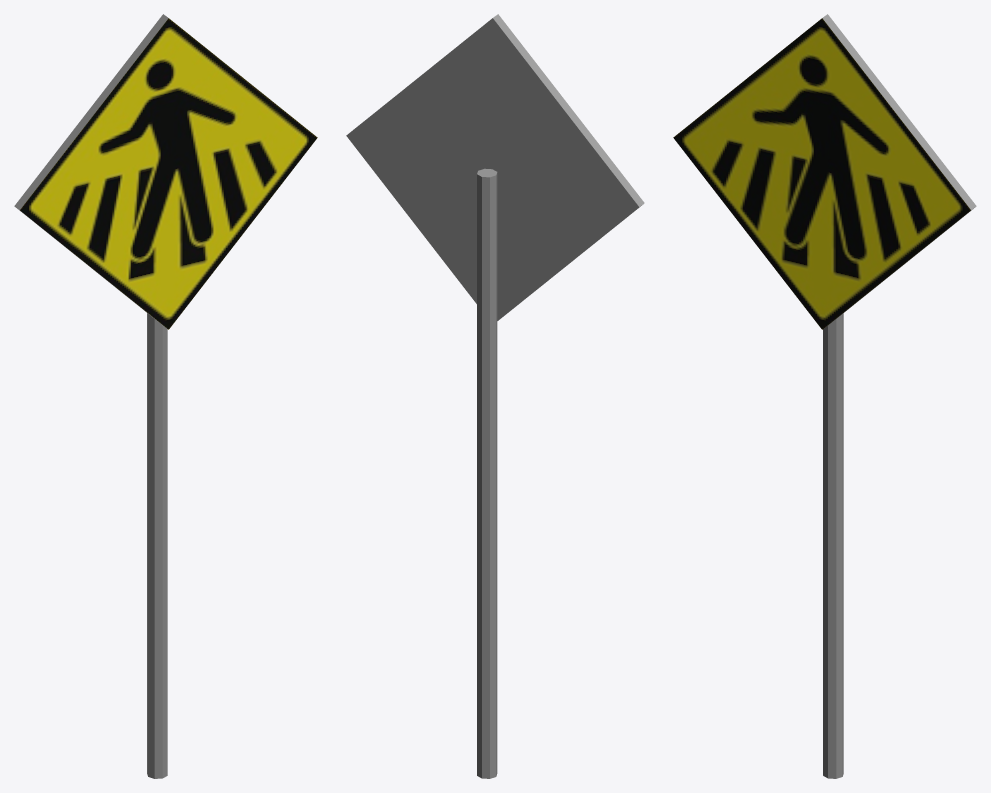
The model's file is PlacaFaixaDePedestres.fbx.
3 renders of one model, left to right at view 1: azimuth 30°, elevation 25°; view 2: azimuth 150°, elevation 25°; view 3: azimuth 330°, elevation 25°, orthographic.
Visible parts, largest first — view 1: PlacaFaixaDePedestres; view 2: PlacaFaixaDePedestres; view 3: PlacaFaixaDePedestres.
Boxes of the visible parts, x1=… form: PlacaFaixaDePedestres: x1=14, y1=14, x2=317, y2=778; PlacaFaixaDePedestres: x1=346, y1=14, x2=644, y2=778; PlacaFaixaDePedestres: x1=673, y1=14, x2=976, y2=778.
Size of the model in its own units: 114 by 279 by 11.04.
